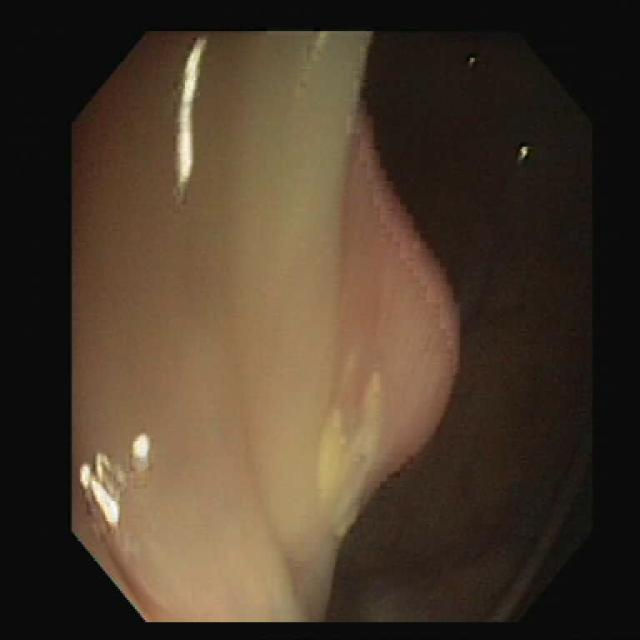tumor: (318, 116, 458, 538)
